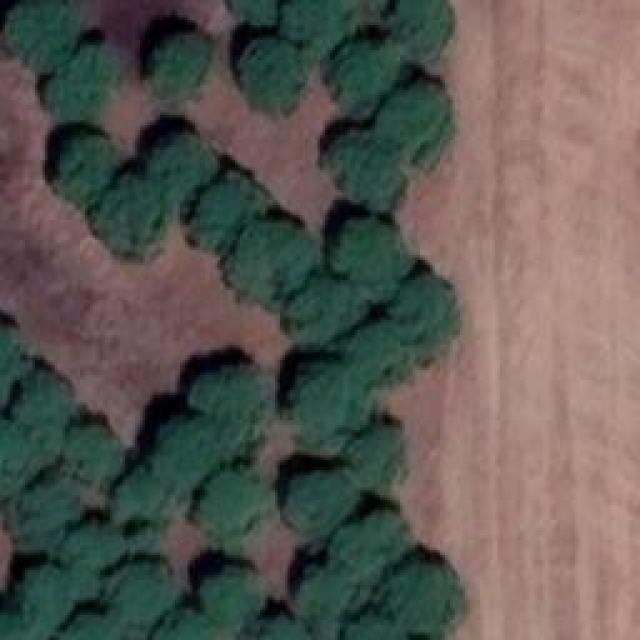Tree: (332, 215, 415, 297), (193, 358, 270, 444), (288, 358, 361, 446), (330, 130, 406, 213), (284, 565, 368, 639), (235, 213, 308, 297), (382, 83, 452, 164), (383, 560, 459, 632), (50, 130, 123, 202), (280, 465, 353, 537), (190, 173, 260, 247), (45, 48, 113, 122), (330, 35, 401, 105), (392, 275, 451, 359), (332, 513, 403, 582), (155, 413, 221, 487), (340, 423, 411, 491), (100, 178, 171, 244), (345, 317, 409, 389), (193, 470, 262, 536), (2, 0, 74, 62), (5, 493, 79, 552), (12, 567, 71, 640), (240, 40, 302, 109), (147, 133, 217, 193), (290, 275, 360, 335), (115, 470, 178, 534), (382, 0, 453, 56), (283, 0, 355, 55), (60, 425, 123, 485), (58, 523, 114, 590), (198, 565, 264, 621), (148, 35, 209, 95), (20, 375, 80, 436), (110, 563, 172, 622), (0, 413, 36, 497), (152, 607, 219, 640), (59, 607, 122, 640), (335, 610, 401, 639), (0, 320, 25, 388), (218, 0, 283, 25), (250, 615, 308, 640)
